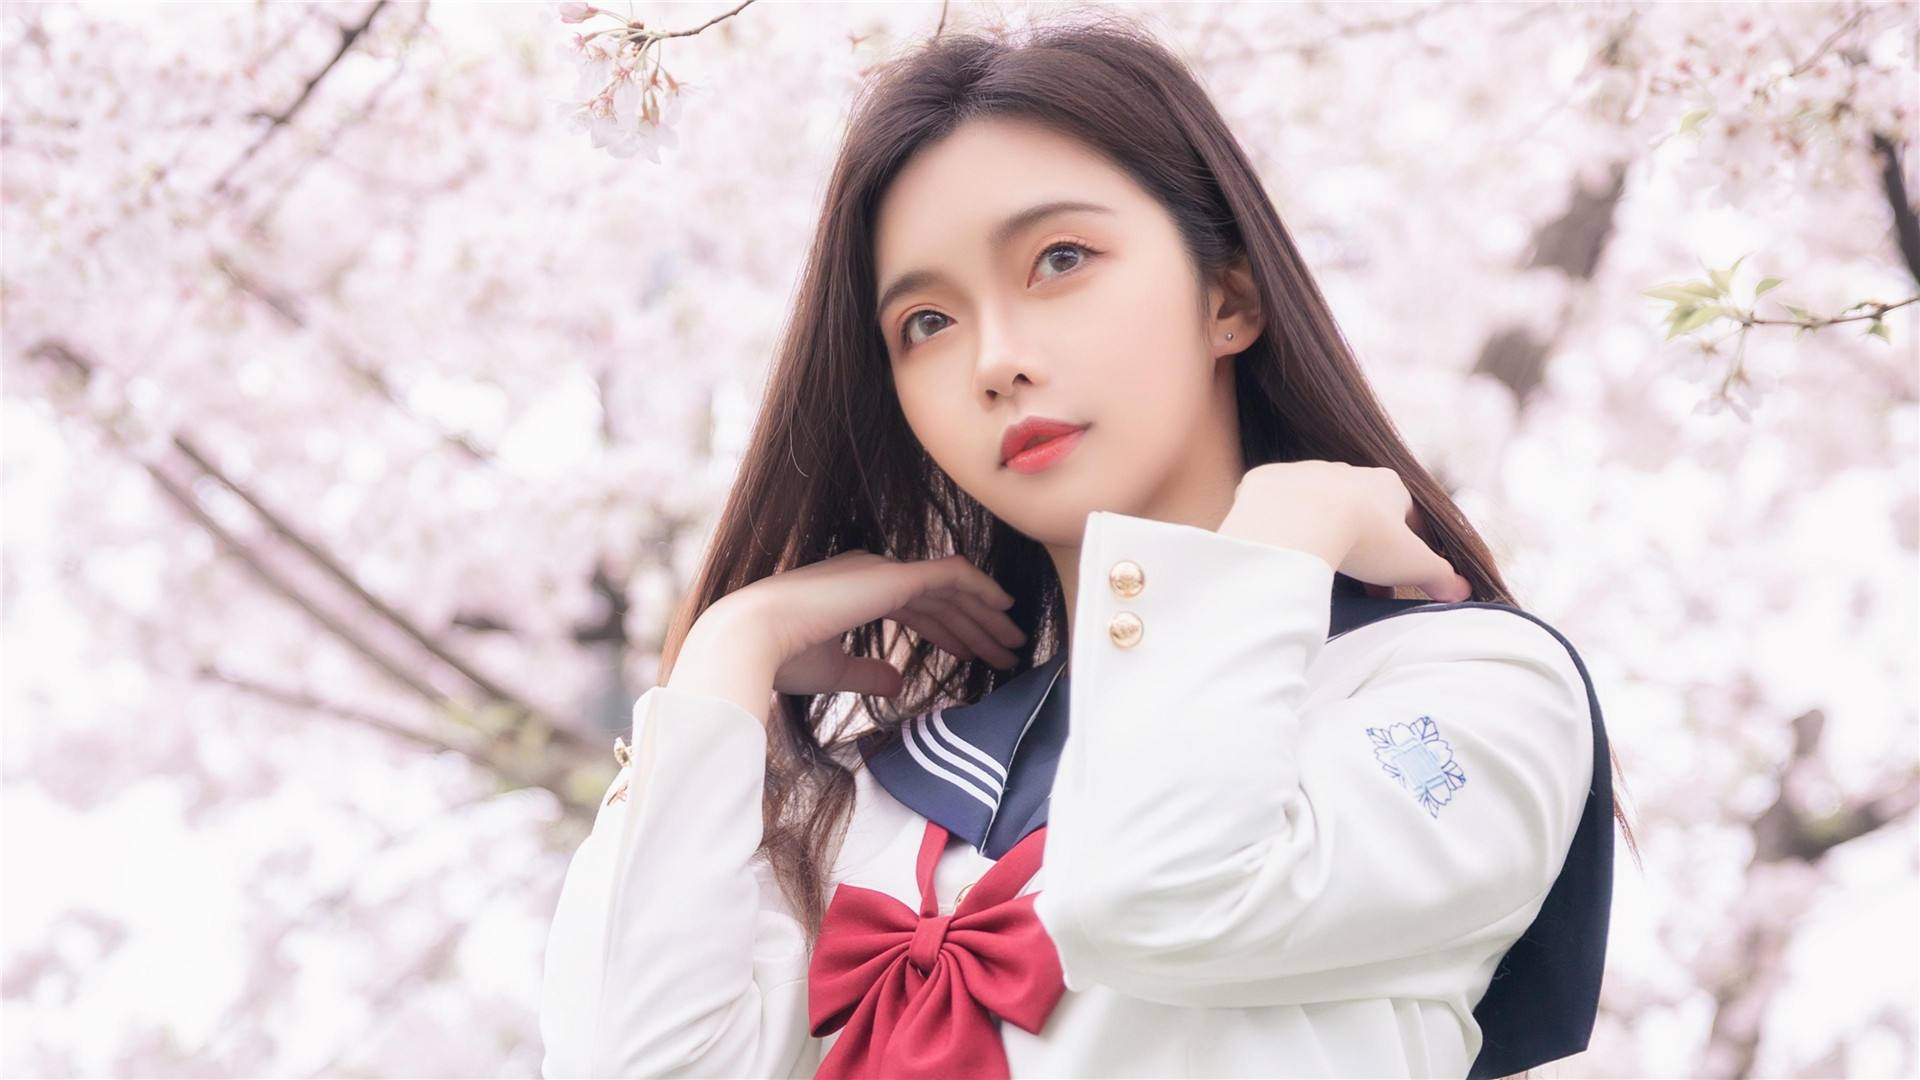person: (665, 28, 1673, 970)
